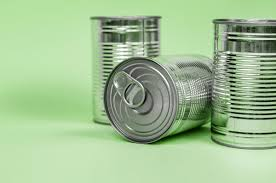can: (88, 11, 276, 155)
